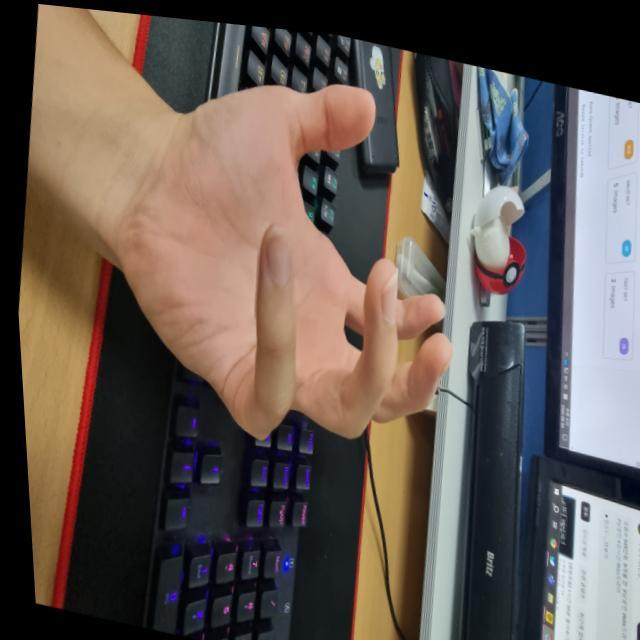keyboard-with-hands: (147, 22, 360, 640)
